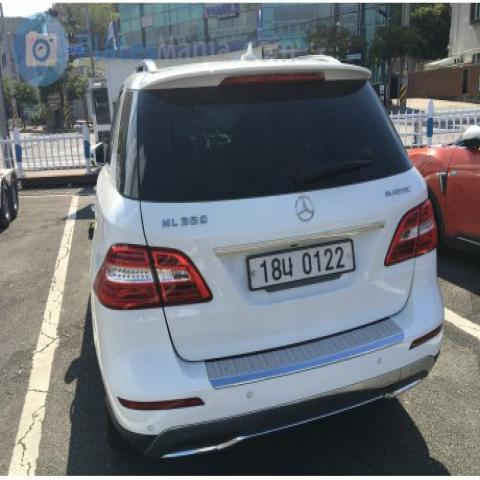LP: (235, 229, 360, 296)
